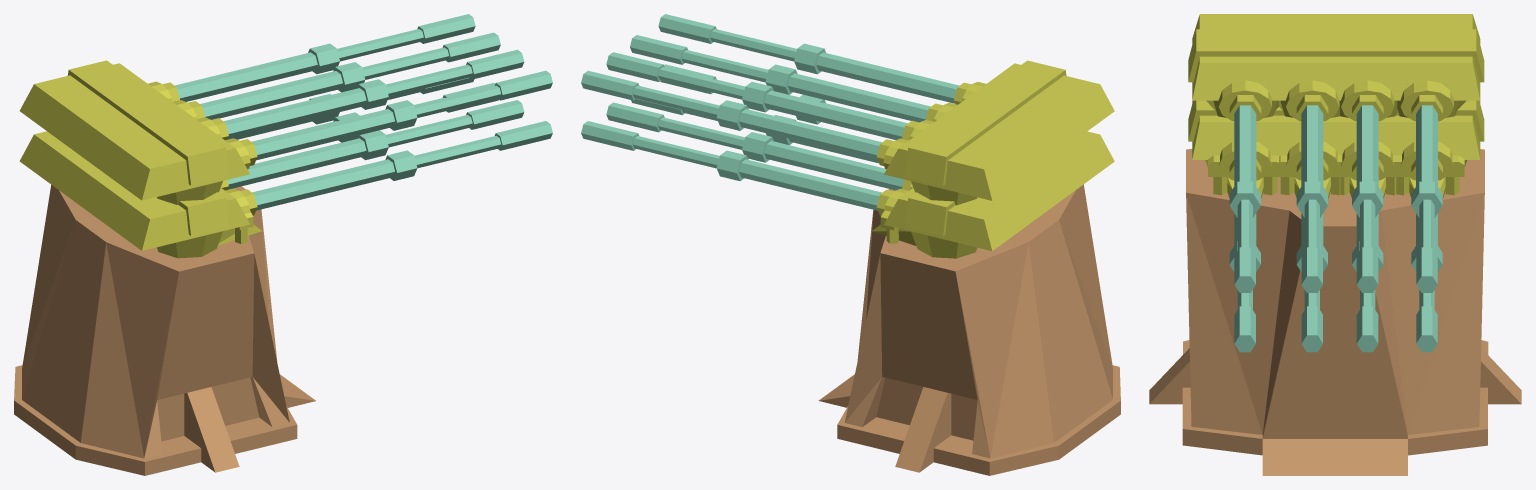
File: Cannon-RRR-5.fbx
3 views of the same model, side by side, from view 1: azimuth 30°, elevation 25°; view 2: azimuth 150°, elevation 25°; view 3: azimuth 270°, elevation 25° (orthographic). The views are drawn at different scales.
Visible parts, largest first — view 1: russian_3:attack, russian_3:base; view 2: russian_3:attack, russian_3:base; view 3: russian_3:base, russian_3:attack.
Part boxes in pixels (x1,y1,x2,y2): russian_3:attack: (19, 14, 552, 258); russian_3:base: (14, 185, 315, 475); russian_3:attack: (581, 14, 1114, 258); russian_3:base: (818, 184, 1120, 475); russian_3:base: (1149, 149, 1521, 475); russian_3:attack: (1188, 14, 1484, 352).
Bounding box in the file's own units: 417 × 260 × 246.
